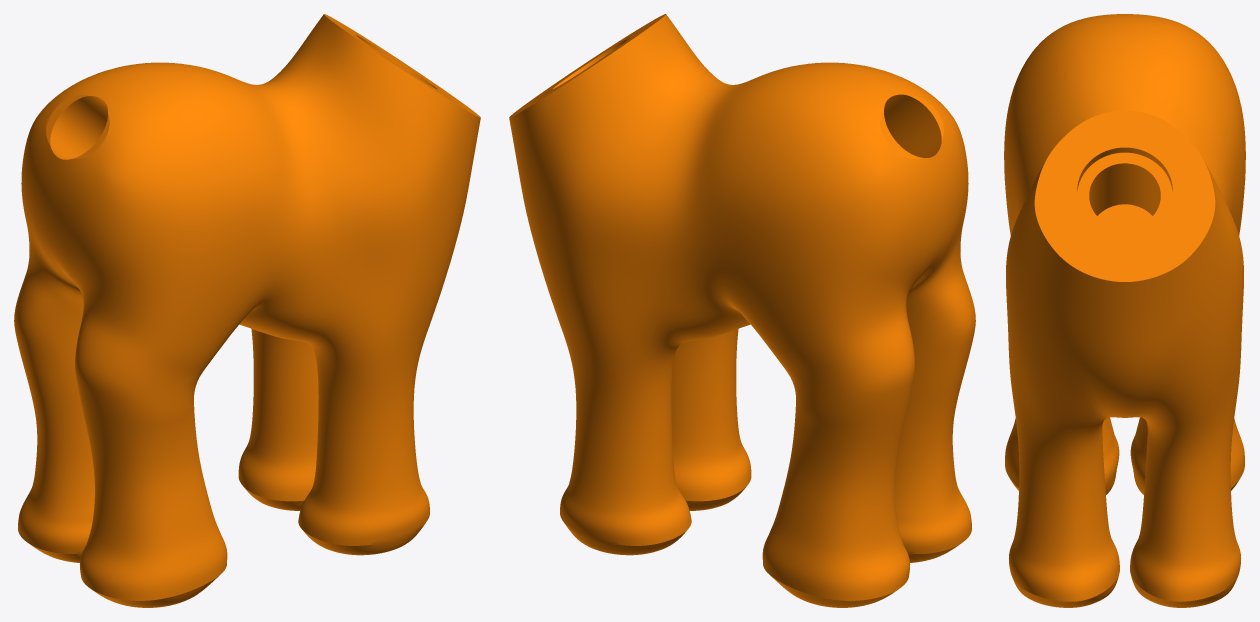
File: Horse Body Standing.glb
The picture shows the model from 3 angles, left to right: view 1: azimuth 30°, elevation 25°; view 2: azimuth 150°, elevation 25°; view 3: azimuth 270°, elevation 25°; orthographic projection. The views are drawn at different scales.
Parts seen in each view (by area): view 1: Horse Body Standing; view 2: Horse Body Standing; view 3: Horse Body Standing.
Boxes of the visible parts, x1,y1,x2,y2 form: Horse Body Standing: (14, 14, 480, 607); Horse Body Standing: (509, 14, 975, 607); Horse Body Standing: (1004, 14, 1245, 607).
Size of the model in its own units: 0.0397 by 0.044 by 0.0202.
